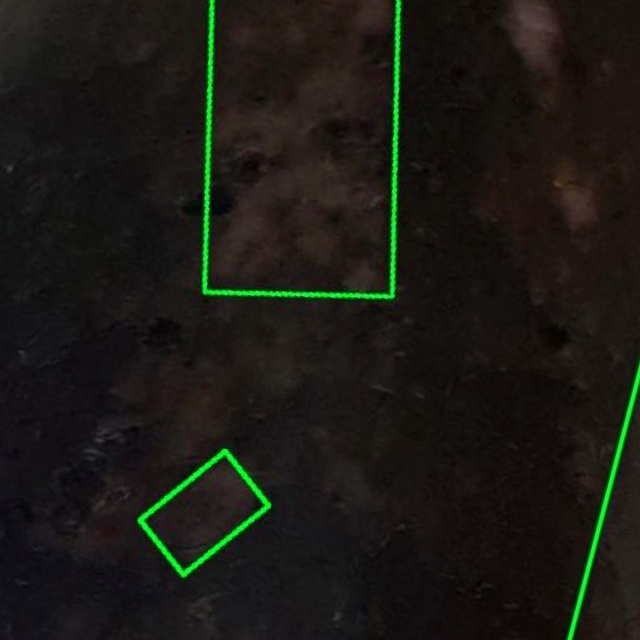Contact Dermatitis: (205, 0, 399, 296), (140, 450, 269, 574)
